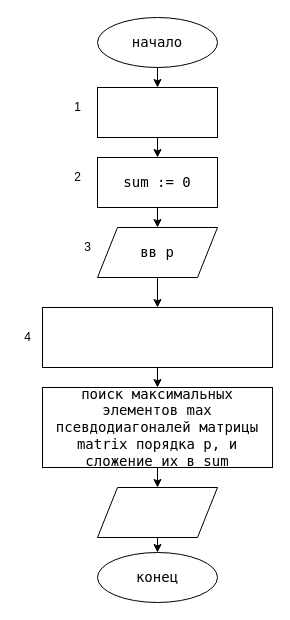
Some shapes in this 290 by 620 pixel diagram are drawn without their labels. Here are the shapes that lost their labels. From the top down, the box of each, then its label:
(96, 86, 218, 138): max := 0
(42, 306, 272, 368): ввод матрицы matrix порядка p
(96, 486, 218, 538): выв sum
